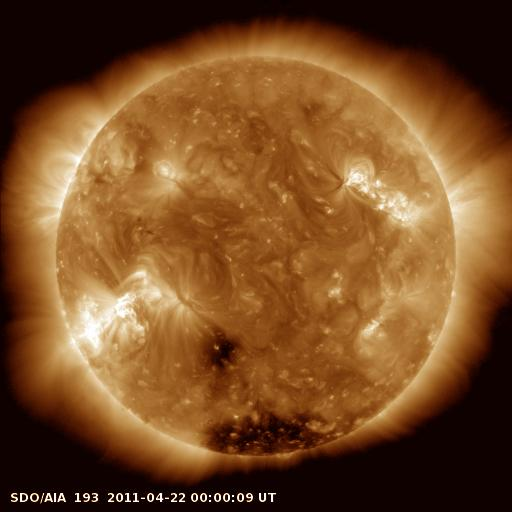coronal_hole: (190, 410, 340, 456), (197, 325, 247, 373)
